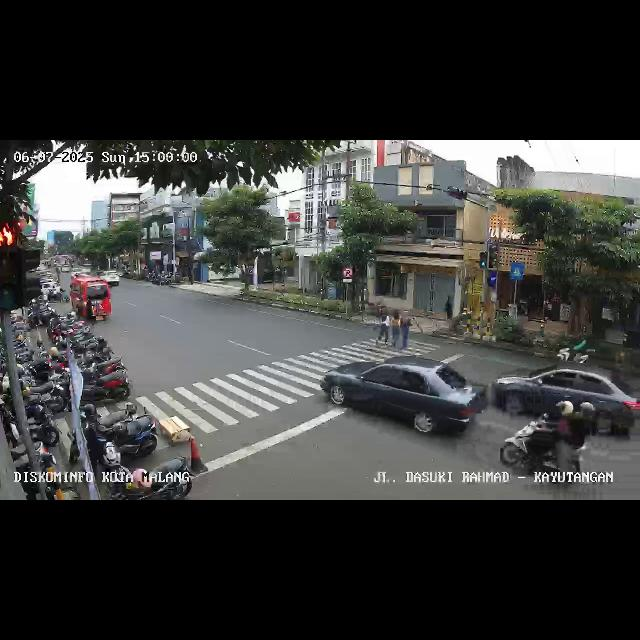car: (318, 354, 486, 440), (496, 367, 640, 439), (70, 278, 112, 322)
motorcycle: (502, 404, 586, 488), (558, 328, 602, 366)
person: (377, 310, 389, 350), (391, 308, 403, 348), (399, 312, 411, 351)
